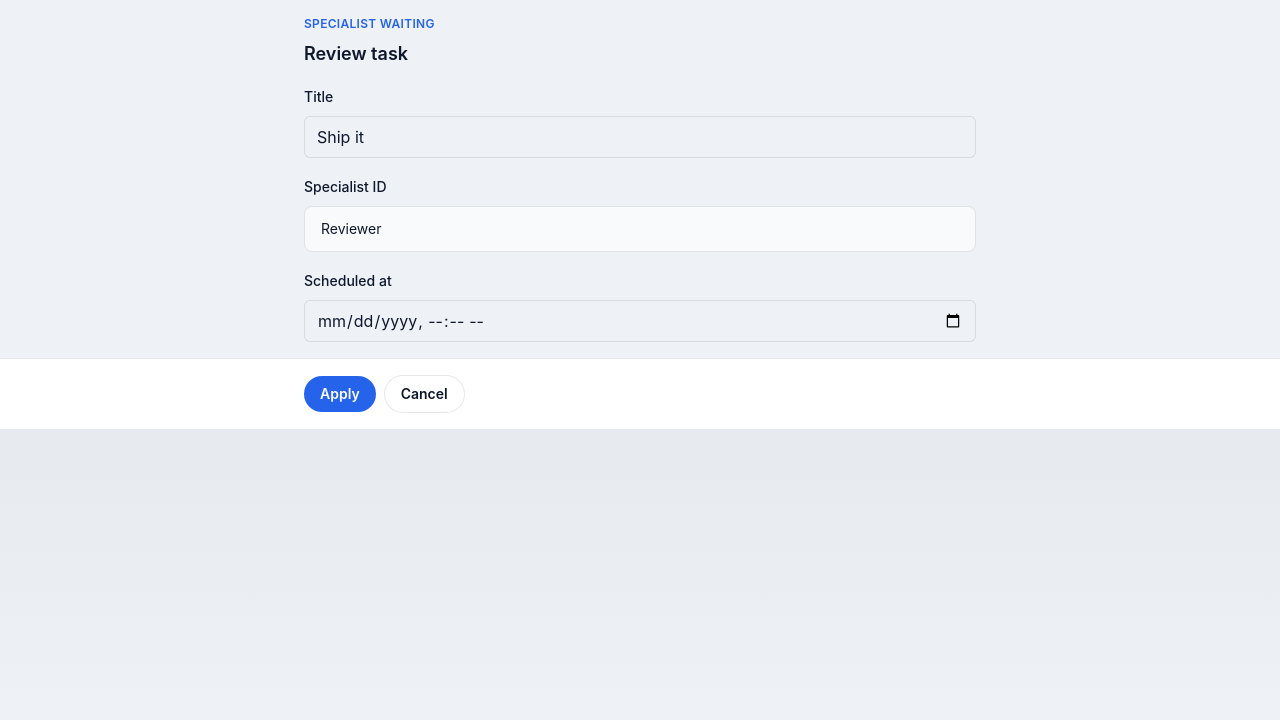
Test: LiveRequestReviewForm — task review › renders a specialist dropdown for task reviews
Focus the dropdown named "Specialist ID" at (640, 229), box [304,206,976,252]
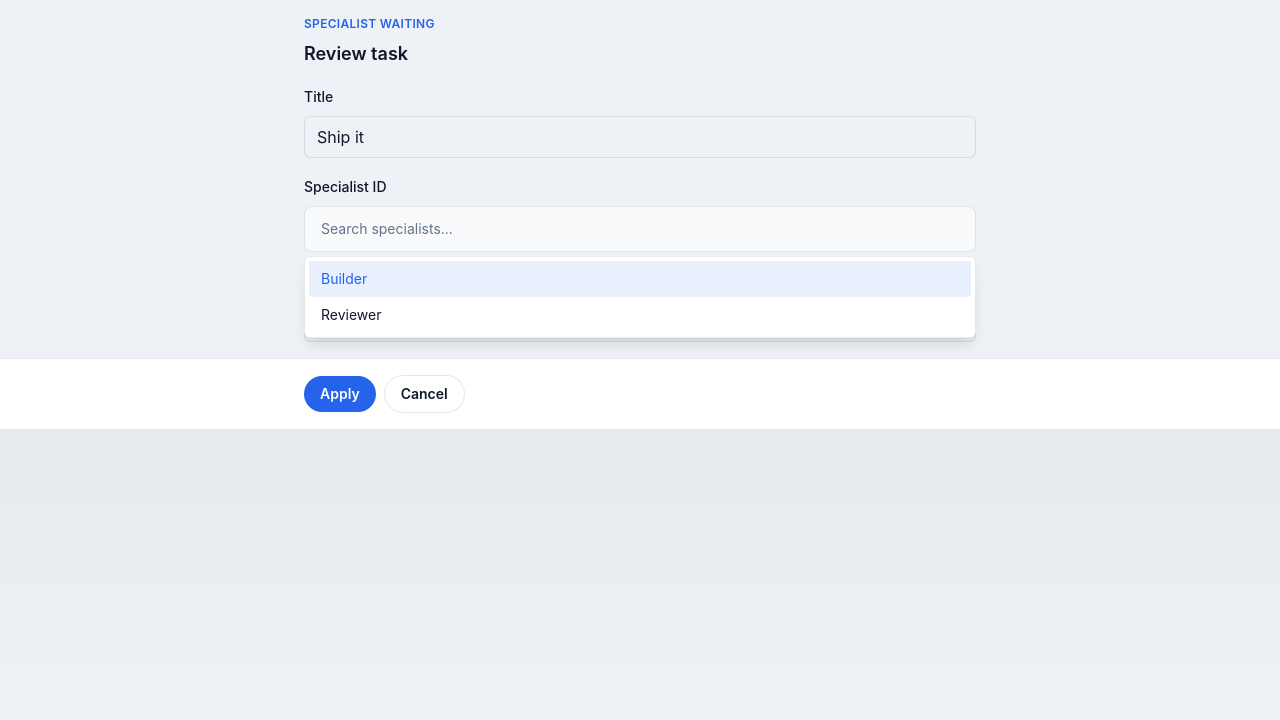
Check: the option "Builder" is shown, box [309,261,971,297]
